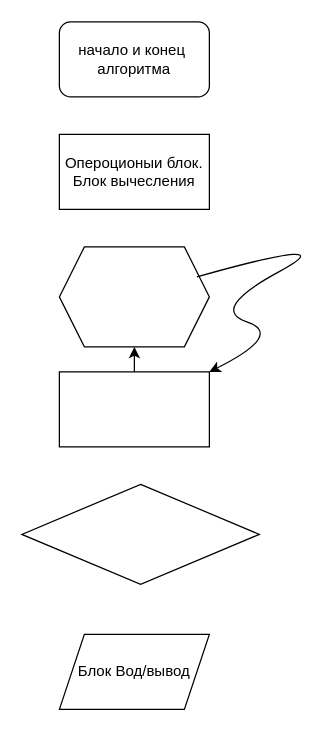
Some shapes in this 323 by 731 pixel diagram are drawn without their labels. Here are the shapes that lost their labels. From the top down, the centre of each, then its label:
point (133, 296): цикл с параметром
point (140, 533): Лог условия блок
